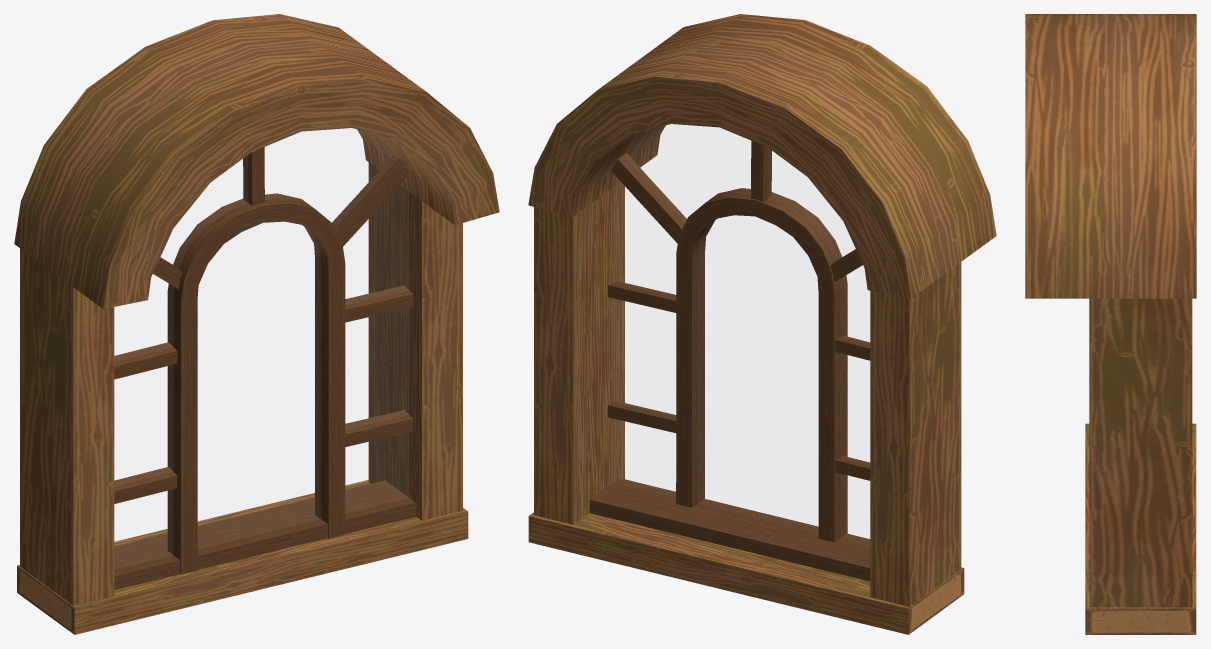
File: Window_Wide_Round1.gltf
3 renders of one model, left to right at view 1: azimuth 30°, elevation 25°; view 2: azimuth 150°, elevation 25°; view 3: azimuth 270°, elevation 25°, orthographic. The views are drawn at different scales.
Visible parts, largest first — view 1: Window_Wide_Round1; view 2: Window_Wide_Round1; view 3: Window_Wide_Round1.
Boxes of the visible parts, <box> form: Window_Wide_Round1: <box>14,14,499,634</box>; Window_Wide_Round1: <box>528,14,996,634</box>; Window_Wide_Round1: <box>1025,14,1196,634</box>.
Size of the model in its own units: 1.36 by 1.73 by 0.5295.
Materials: 2 (1 with a texture image).
